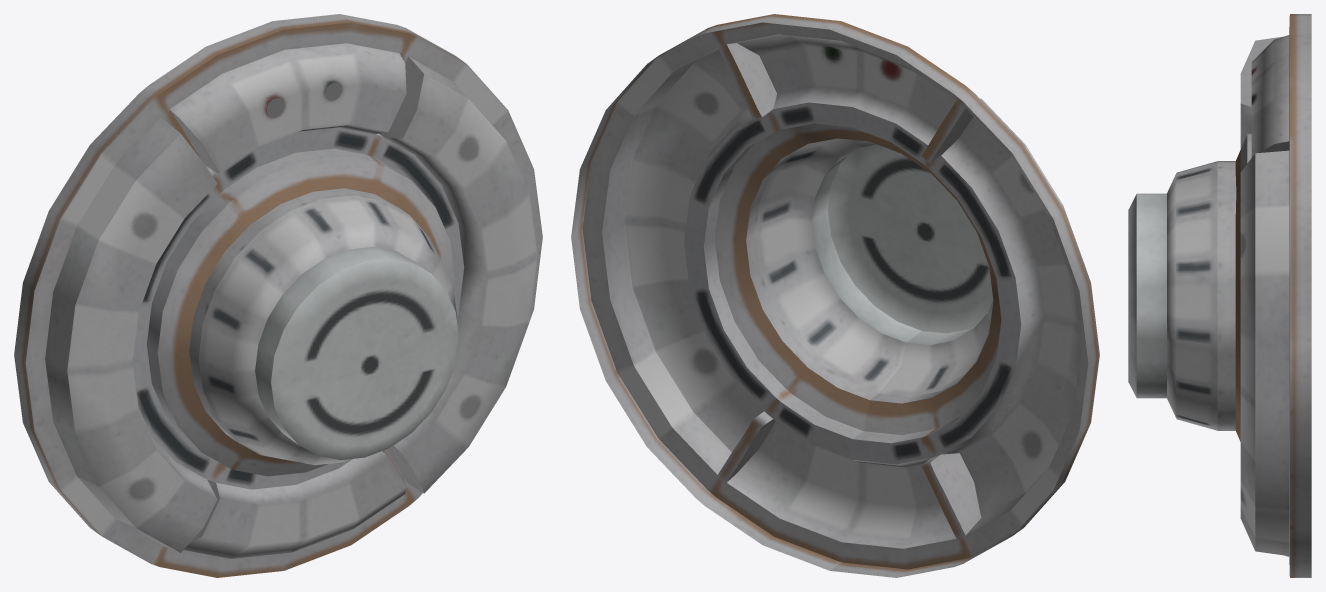
Rendered from Button A1E.fbx.
3 views of the same model, side by side, from view 1: azimuth 30°, elevation 25°; view 2: azimuth 150°, elevation 25°; view 3: azimuth 270°, elevation 25° (orthographic). The views are drawn at different scales.
Parts seen in each view (by area): view 1: Button A1E, ButtonHandle A1E; view 2: Button A1E, ButtonHandle A1E; view 3: Button A1E, ButtonHandle A1E.
Part boxes in pixels (<box>): Button A1E: <box>14,14,542,577</box>; ButtonHandle A1E: <box>255,247,458,459</box>; Button A1E: <box>571,14,1099,577</box>; ButtonHandle A1E: <box>812,144,993,345</box>; Button A1E: <box>1167,14,1311,577</box>; ButtonHandle A1E: <box>1128,193,1166,398</box>.
Size of the model in its own units: 17.85 by 17.85 by 5.78.
3 materials, 1 textured.
